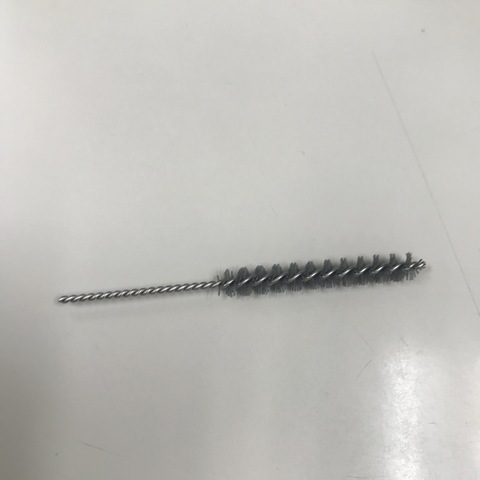Twist Brush-A: (51, 254, 429, 314)
